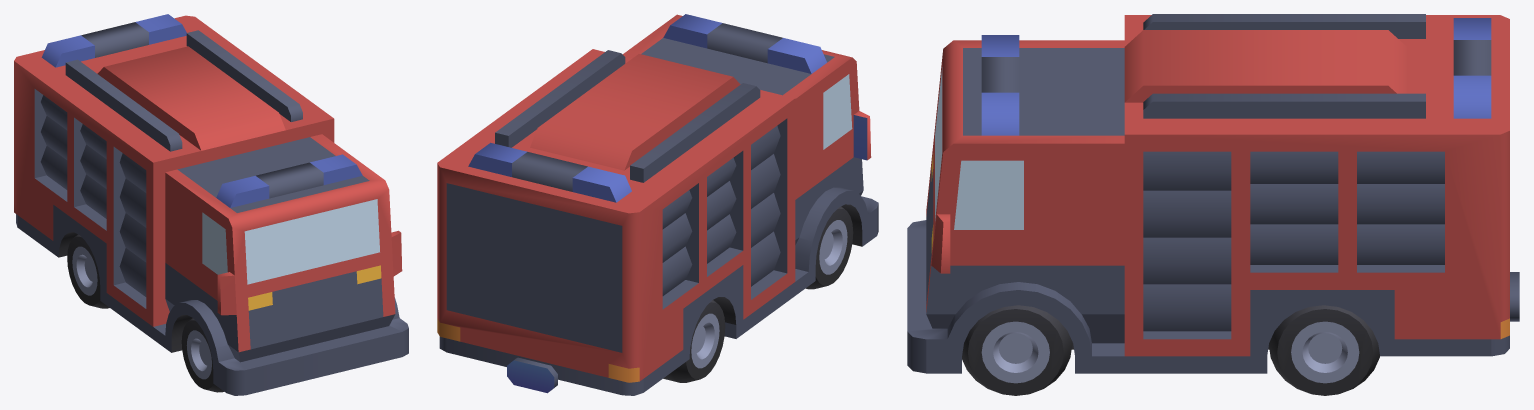
Rendered from vehicle-firetruck-red.glb.
3 renders of one model, left to right at view 1: azimuth 30°, elevation 25°; view 2: azimuth 150°, elevation 25°; view 3: azimuth 270°, elevation 25°, orthographic. The views are drawn at different scales.
Parts seen in each view (by area): view 1: body, wheel-back-right, wheel-front-right; view 2: body, wheel-back-right, wheel-front-right; view 3: body, wheel-back-left, wheel-front-left.
Part boxes in pixels (box(x1,y1,x2,y2)): body: box(14, 14, 408, 395); wheel-back-right: box(67, 234, 109, 308); wheel-front-right: box(181, 318, 223, 392); body: box(437, 14, 878, 395); wheel-back-right: box(663, 300, 725, 382); wheel-front-right: box(805, 206, 853, 289); body: box(907, 14, 1519, 373); wheel-back-left: box(1269, 305, 1379, 395); wheel-front-left: box(962, 305, 1072, 395).
Size of the model in its own units: 1.5 by 1.7 by 3.25.
Materials: 1 (1 with a texture image).
